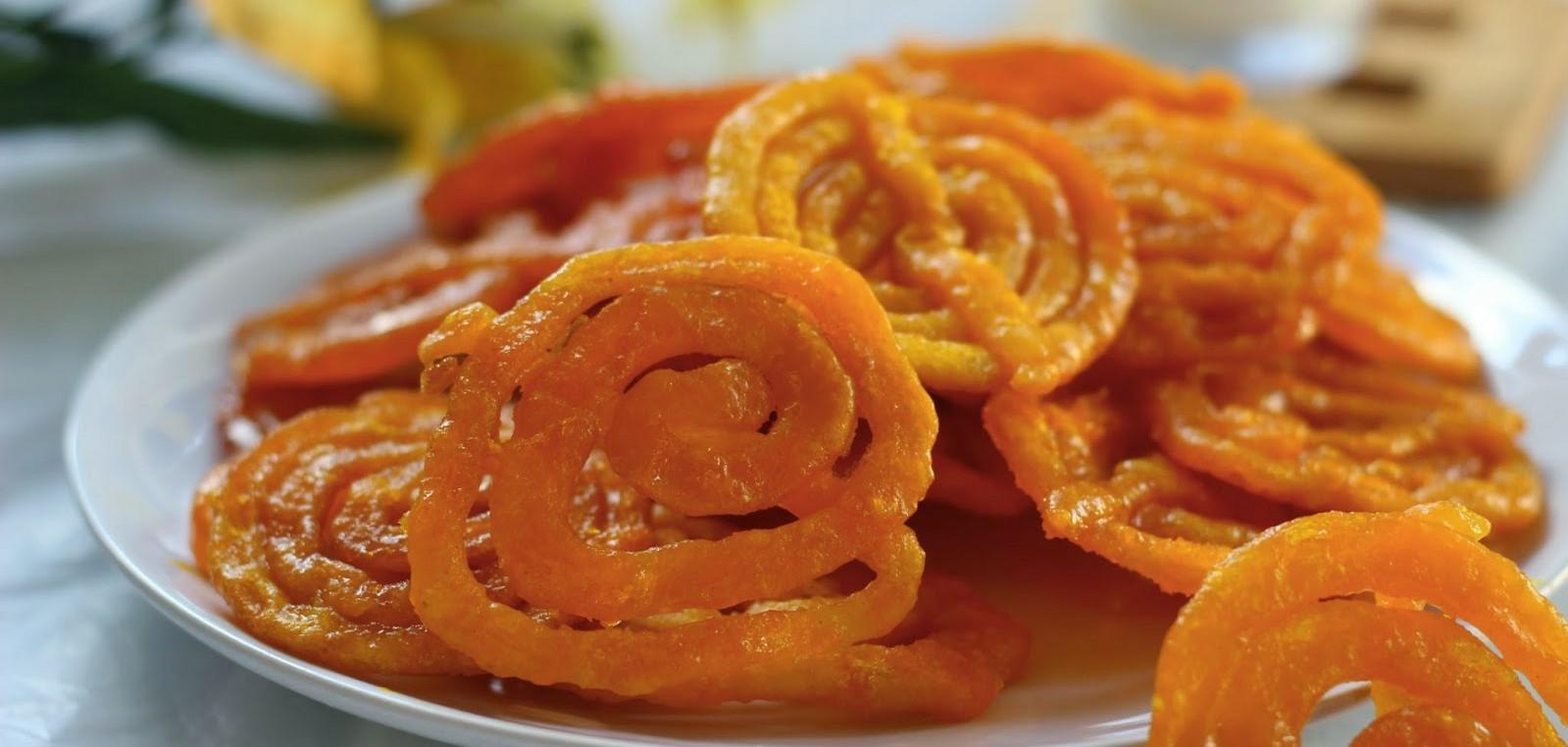Jalebi: (184, 28, 1568, 747)
